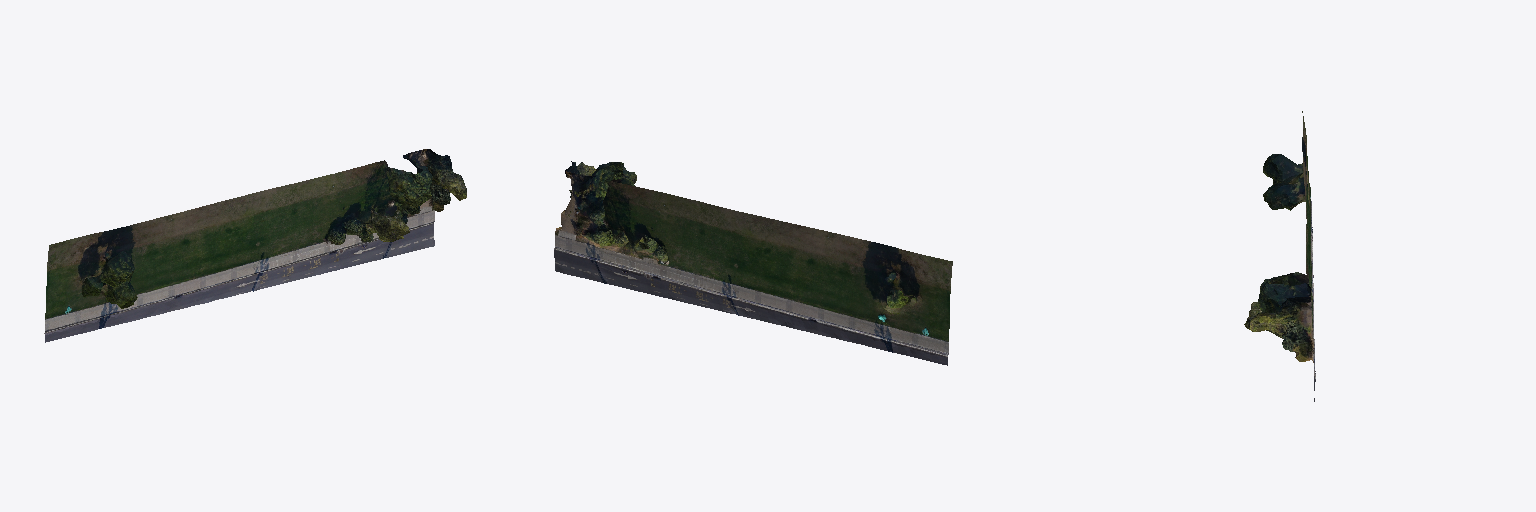
3 renders of one model, left to right at view 1: azimuth 30°, elevation 25°; view 2: azimuth 150°, elevation 25°; view 3: azimuth 270°, elevation 25°, orthographic.
Bounding box in the file's own units: 100 × 24.76 × 15.84.
1 materials, 1 textured.